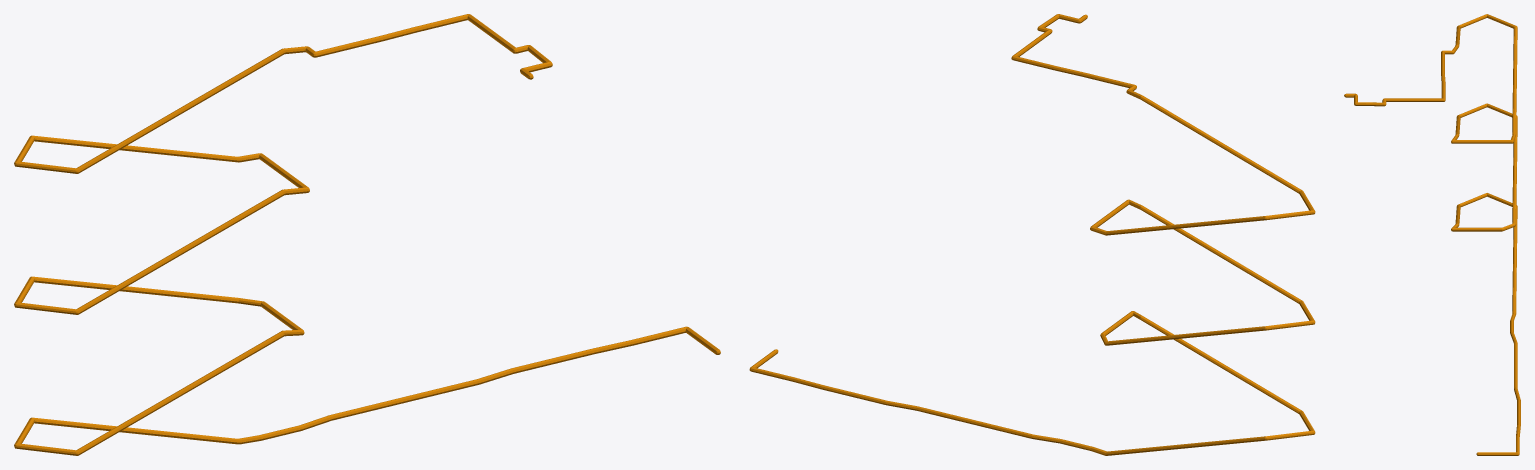
3 renders of one model, left to right at view 1: azimuth 30°, elevation 25°; view 2: azimuth 150°, elevation 25°; view 3: azimuth 270°, elevation 25°, orthographic. The views are drawn at different scales.
Size of the model in its own units: 2595 by 1520 by 896.
